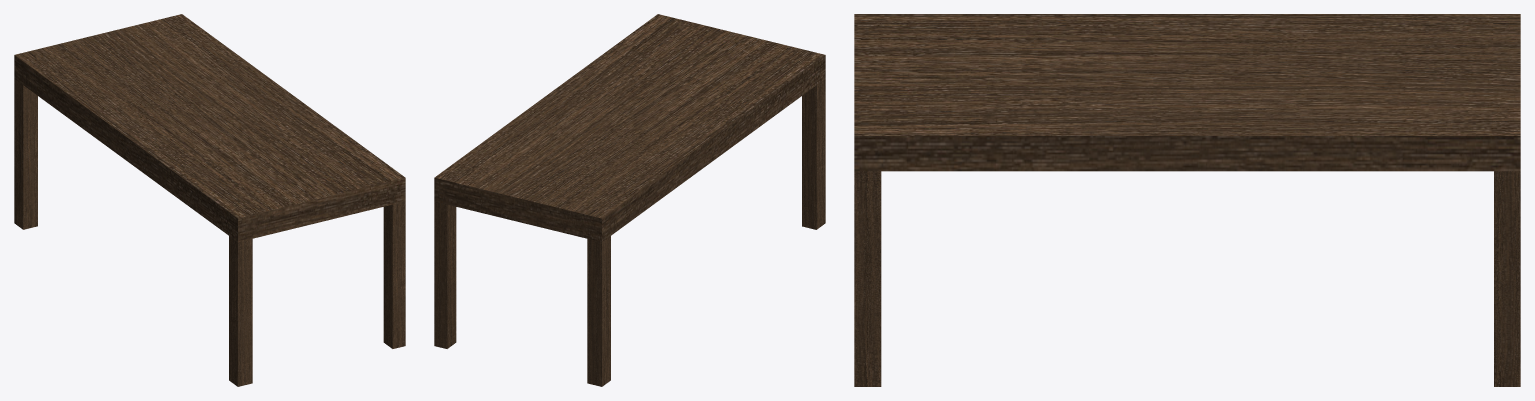
Rendered from pianobench.fbx.
3 renders of one model, left to right at view 1: azimuth 30°, elevation 25°; view 2: azimuth 150°, elevation 25°; view 3: azimuth 270°, elevation 25°, orthographic. The views are drawn at different scales.
Parts seen in each view (by area): view 1: pCube1; view 2: pCube1; view 3: pCube1.
Boxes of the visible parts, left/top/right/bottom form: pCube1: left=14, top=14, right=405, bottom=386; pCube1: left=434, top=14, right=825, bottom=386; pCube1: left=854, top=14, right=1520, bottom=386.
Bounding box in the file's own units: 2.15 × 2.06 × 4.96.
Materials: 1 (1 with a texture image).
